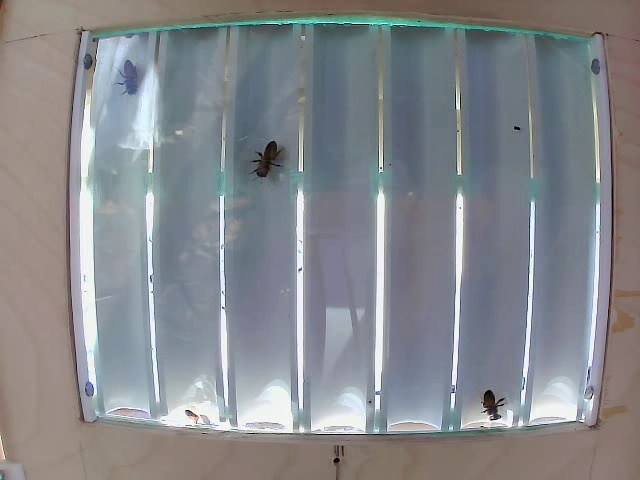bee: (89, 54, 147, 102), (245, 138, 287, 192)
